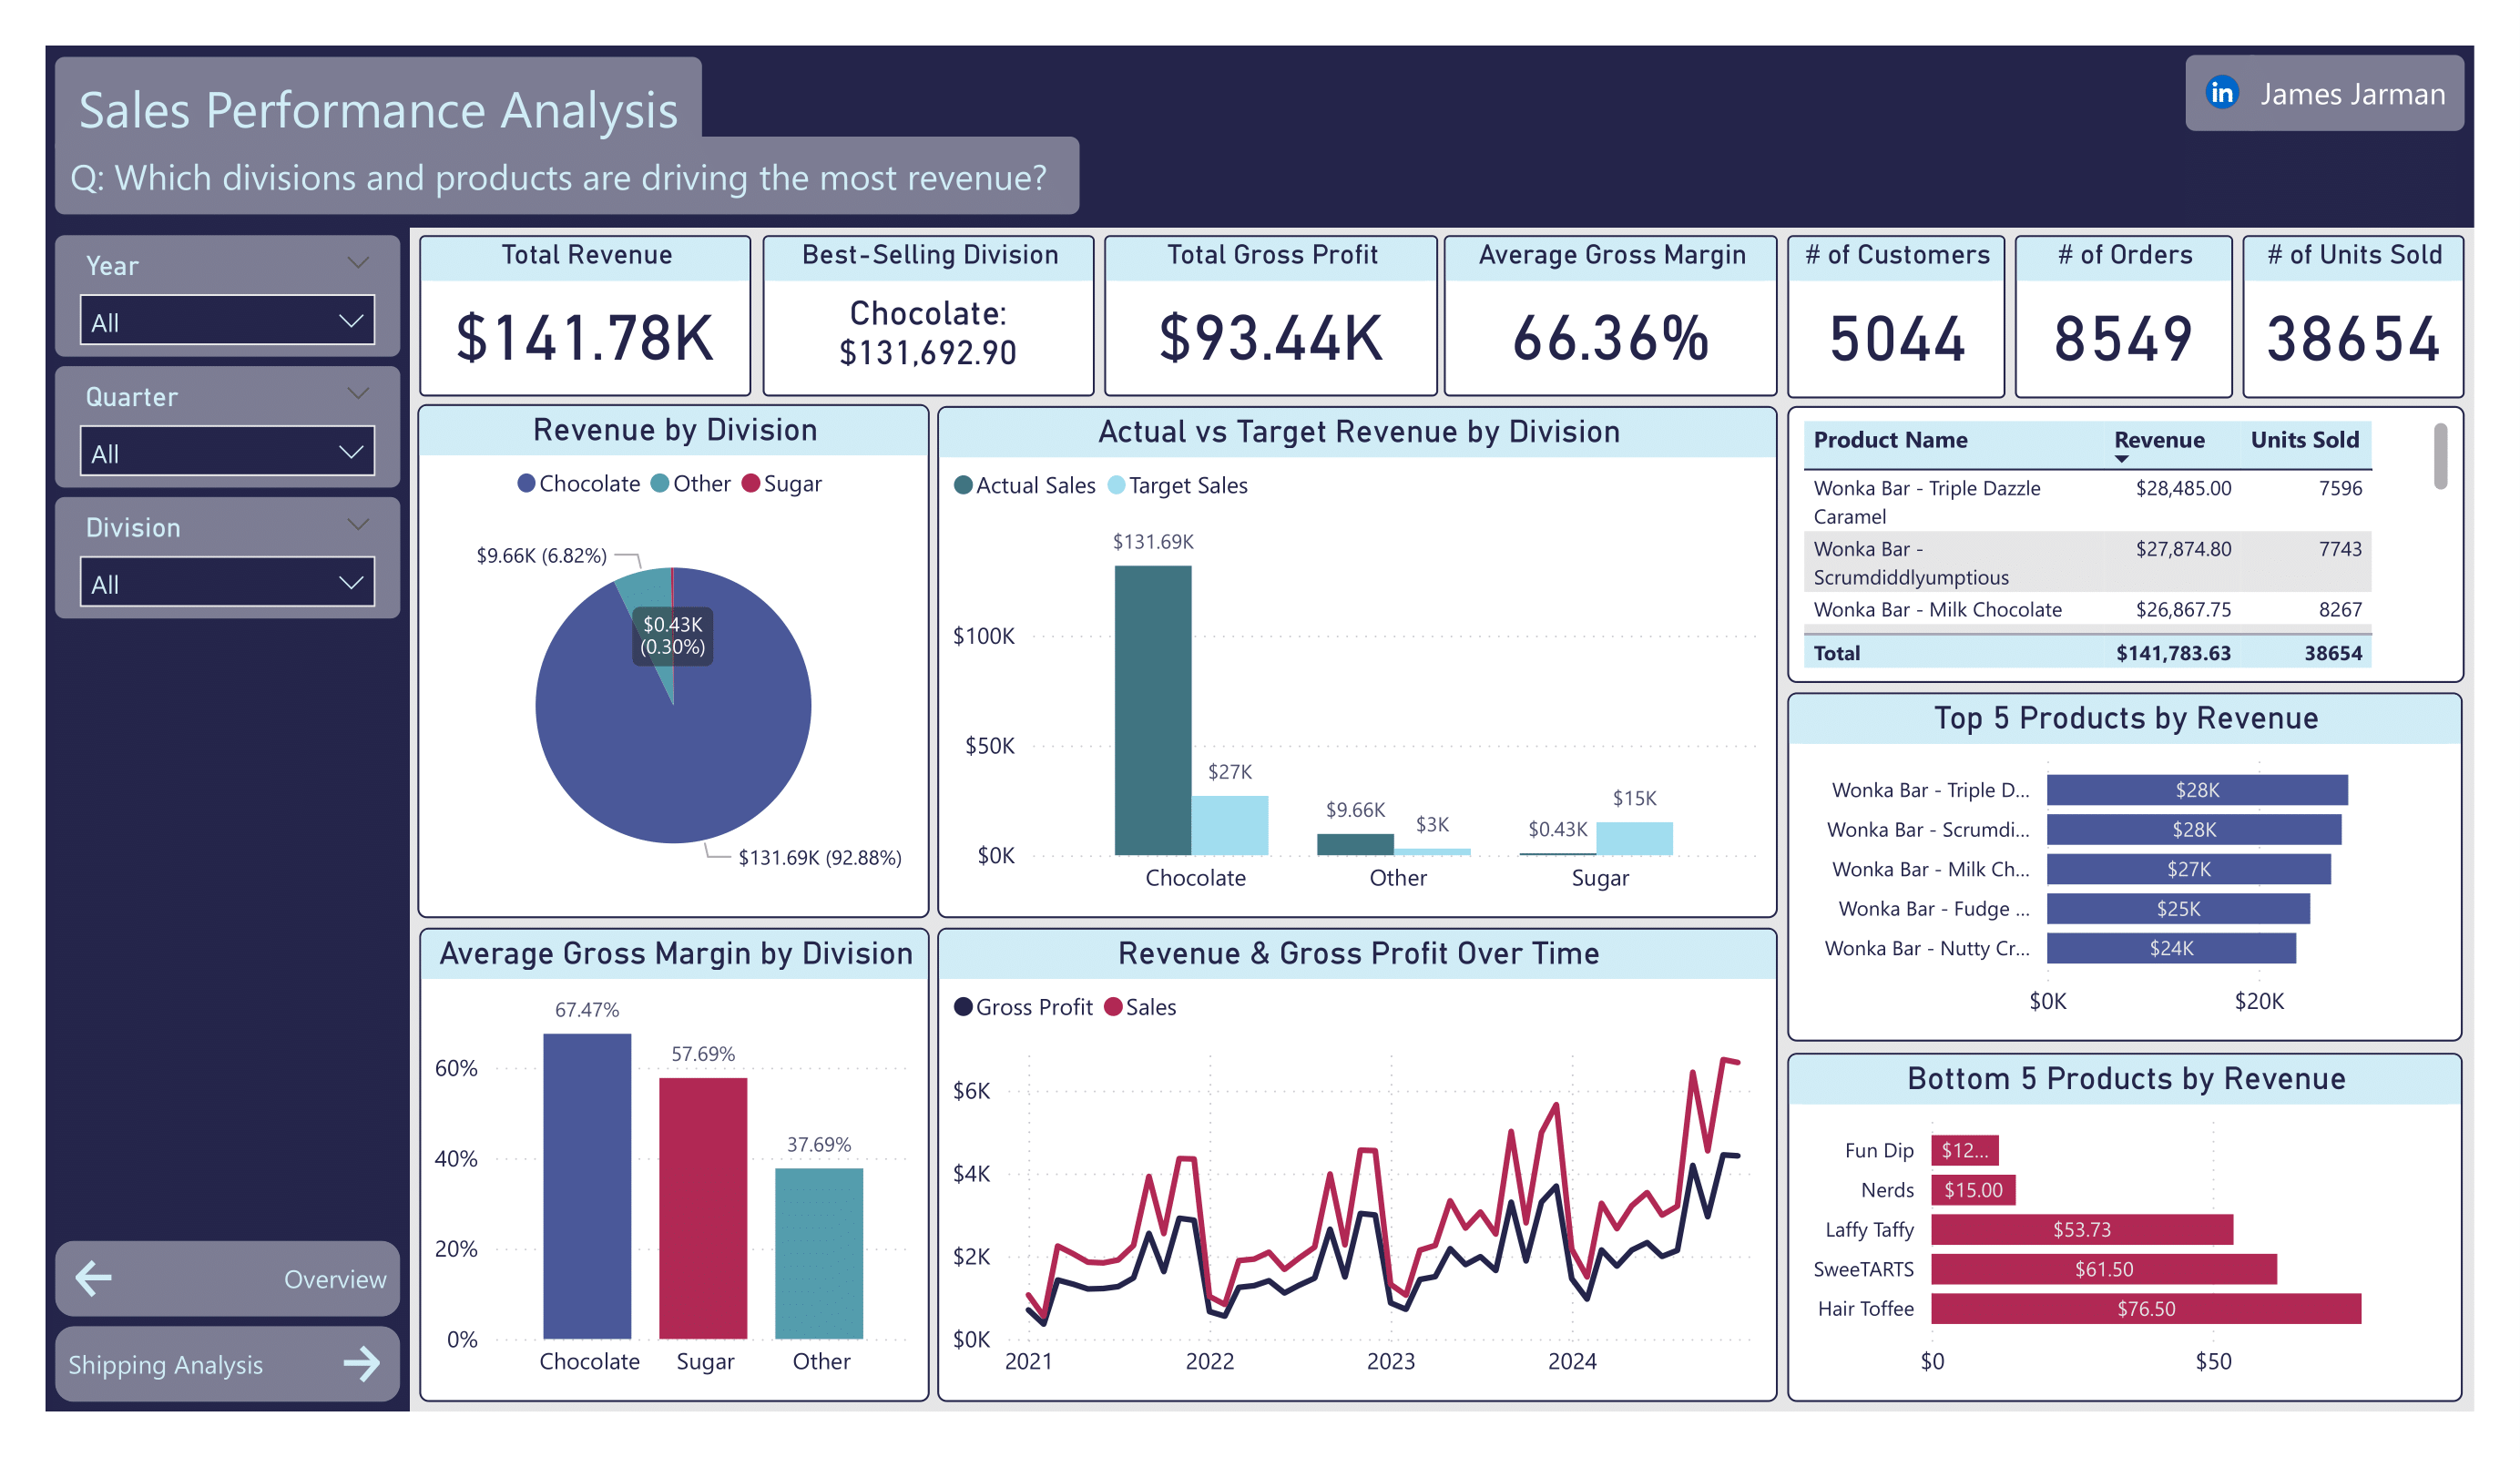

The dashboard page shown, as its layout file describes it:
{"tool":"powerbi","page":{"name":"1. Sales Performance Analysis","canvas":[1280,720],"ordinal":1},"visuals":[{"type":"clusteredBarChart","title":"Bottom 5 Products by Revenue","fields":{"Category":["candy_products.Product_Name"],"Y":["Sum(sales.Sales)"]},"box":[918.5,531.1,355.5,184],"z":0},{"type":"clusteredBarChart","title":"Top 5 Products by Revenue","fields":{"Category":["candy_products.Product_Name"],"Y":["Sum(sales.Sales)"]},"box":[918.5,341.2,355.5,184],"z":1000},{"type":"tableEx","title":"Product Table","fields":{"Values":["sales.Product_Name","Sum(sales.Sales)","Sum(sales_analysis.Units Sold)"]},"box":[918.5,189.9,356.3,145.8],"z":2000},{"type":"lineChart","title":"Revenue & Gross Profit Over Time","fields":{"Y":["Sum(sales.Gross_Profit)","Sum(sales.Sales)"],"Category":["sales.Order_Date.Variation.Date Hierarchy.Year","sales.Order_Date.Variation.Date Hierarchy.Quarter","sales.Order_Date.Variation.Date Hierarchy.Month"]},"box":[470.2,464.9,442.6,250],"z":3000},{"type":"clusteredColumnChart","fields":{"Y":["sales.Average Gross Margin"],"Category":["sales.Division"]},"box":[196.8,464.9,269.1,250],"z":4000},{"type":"clusteredColumnChart","title":"Actual vs Target Revenue by Division","fields":{"Category":["sales.Division"],"Y":["Sum(sales.Sales)","Sum(candy_targets.Target)"]},"box":[470.2,189.9,442.6,269.7],"z":5000},{"type":"pieChart","title":"Revenue by Division","fields":{"Category":["sales.Division"],"Y":["Sum(sales.Sales)"]},"box":[196.3,189.4,269.7,270.2],"z":6000},{"type":"card","title":"# of Orders","fields":{"Values":["CountNonNull(sales_analysis.Order ID)"]},"box":[1038,100,115.1,85.9],"z":7000},{"type":"card","title":"# of Customers","fields":{"Values":["Count(sales_analysis.Customer ID)"]},"box":[918.1,100.1,115,85.7],"z":8000},{"type":"card","title":"Average Gross Margin","fields":{"Values":["sales.Average Gross Margin1"]},"box":[737.2,100.2,175.6,85.1],"z":9000},{"type":"card","title":"Total Gross Profit","fields":{"Values":["Sum(sales.Gross_Profit)"]},"box":[558.3,100.2,175.6,85.1],"z":10000},{"type":"card","title":"Best-Selling Division","fields":{"Values":["sales.Best-Selling Division & Sales1"]},"box":[378.2,100.2,175.2,85.1],"z":11000},{"type":"card","title":"Total Revenue","fields":{"Values":["Sum(sales_analysis.Total Sales)"]},"box":[197,100,175.5,84.9],"z":12000},{"type":"shape","title":"Left-side Shape","box":[0,95.6,192,624.4],"z":13000},{"type":"actionButton","title":"Next Page Button","box":[5,675,181.9,40],"z":14000},{"type":"actionButton","title":"Previous Page Button","box":[5,630,181.9,40],"z":15000},{"type":"slicer","title":"Quarter Slicer","fields":{"Values":["sales_analysis.Division"]},"box":[5.2,238,182,63.6],"z":16000},{"type":"slicer","title":"Year Slicer","fields":{"Values":["sales_analysis.Order Date.Variation.Date Hierarchy.Quarter"]},"box":[5.2,169,182,64],"z":17000},{"type":"slicer","title":"Division Slicer","fields":{"Values":["sales_analysis.Order Date.Variation.Date Hierarchy.Year"]},"box":[5,100,182,64],"z":18000},{"type":"shape","title":"Header Shape","box":[0,0,1280,95.6],"z":19000},{"type":"actionButton","title":"LinkedIn Button","box":[1127.6,5,40,40],"z":20000},{"type":"textbox","title":"Question","box":[5,47.9,540,41.3],"z":21000},{"type":"textbox","title":"Page Title","box":[5,5.6,340.9,52.1],"z":22000},{"type":"actionButton","title":"JJ Button","box":[1157.9,5,116.9,40],"z":23000},{"type":"card","title":"# of Units Sold","fields":{"Values":["Sum(sales_analysis.Units Sold)"]},"box":[1158.1,100,116.8,85.9],"z":24000}]}

Visuals, with their boxes on the page's 1280x720 design canvas (x1, y1, x2, y2). These are canvas units, not pixel positions in the 2520x1457 screenshot, which may show the page scaled, cropped or inside an application window:
"Bottom 5 Products by Revenue" clusteredBarChart: 918:531:1274:715
"Top 5 Products by Revenue" clusteredBarChart: 918:341:1274:525
"Product Table" tableEx: 918:190:1275:336
"Revenue & Gross Profit Over Time" lineChart: 470:465:913:715
clusteredColumnChart - sales.Average Gross Margin x sales.Division: 197:465:466:715
"Actual vs Target Revenue by Division" clusteredColumnChart: 470:190:913:460
"Revenue by Division" pieChart: 196:189:466:460
"# of Orders" card: 1038:100:1153:186
"# of Customers" card: 918:100:1033:186
"Average Gross Margin" card: 737:100:913:185
"Total Gross Profit" card: 558:100:734:185
"Best-Selling Division" card: 378:100:553:185
"Total Revenue" card: 197:100:372:185
"Left-side Shape" shape: 0:96:192:720
"Next Page Button" actionButton: 5:675:187:715
"Previous Page Button" actionButton: 5:630:187:670
"Quarter Slicer" slicer: 5:238:187:302
"Year Slicer" slicer: 5:169:187:233
"Division Slicer" slicer: 5:100:187:164
"Header Shape" shape: 0:0:1280:96
"LinkedIn Button" actionButton: 1128:5:1168:45
"Question" textbox: 5:48:545:89
"Page Title" textbox: 5:6:346:58
"JJ Button" actionButton: 1158:5:1275:45
"# of Units Sold" card: 1158:100:1275:186
